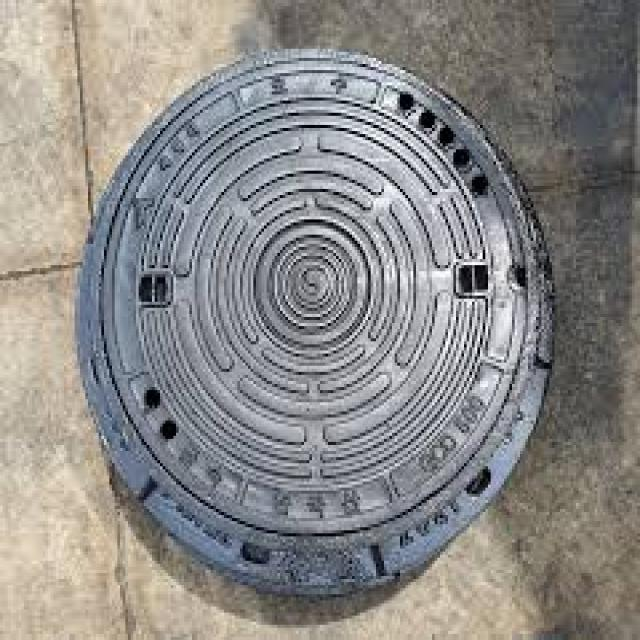manhole: (79, 50, 551, 592)
